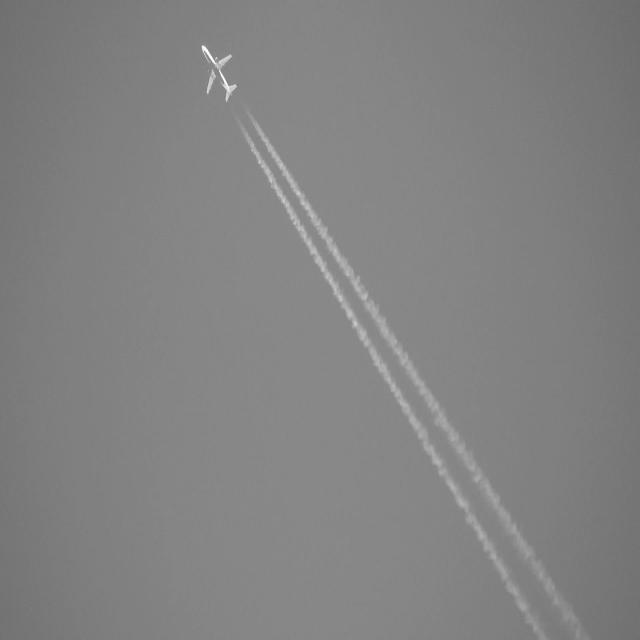aeroplane: (201, 38, 238, 104)
